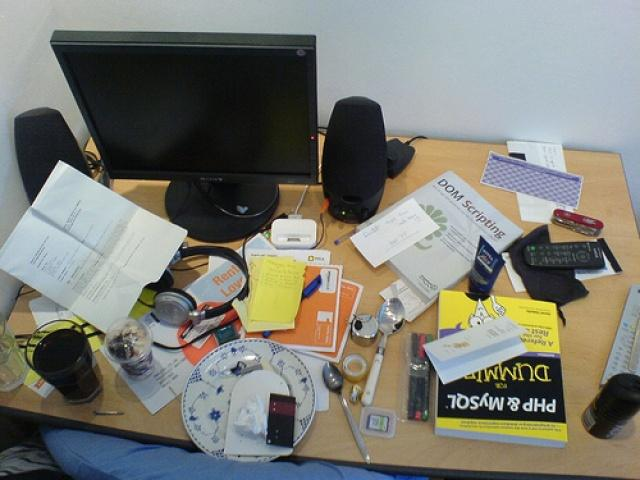AIO PC-Monitor-TV: (49, 29, 317, 242)
